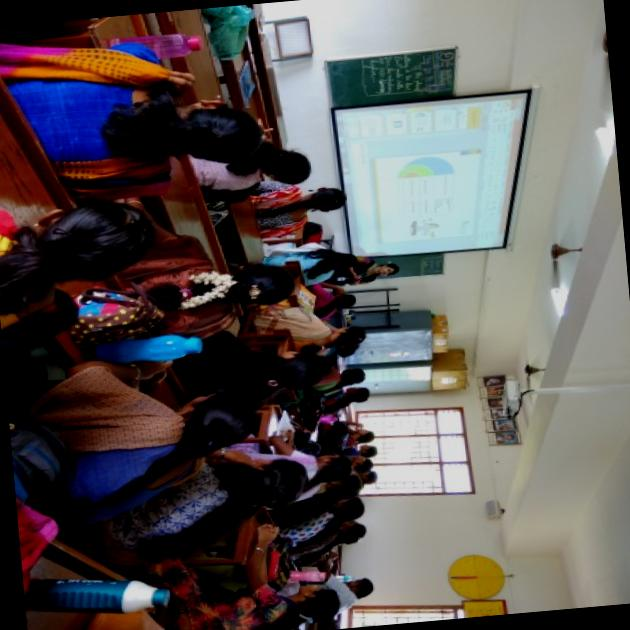projector: (315, 83, 553, 274)
there is a person: (32, 392, 253, 522), (35, 78, 242, 200), (147, 232, 290, 334), (186, 332, 324, 417), (156, 572, 340, 630), (256, 172, 348, 236), (326, 383, 365, 418)
waterbottle: (32, 575, 174, 624), (90, 330, 214, 372), (110, 30, 206, 68)
